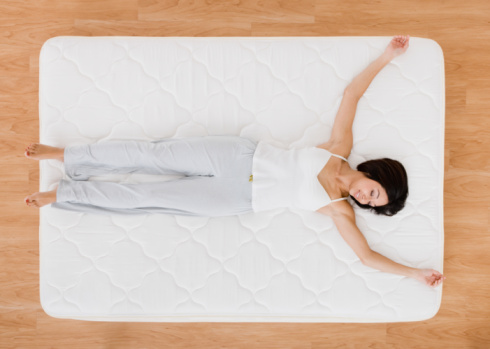deitado: (259, 52, 430, 321)
